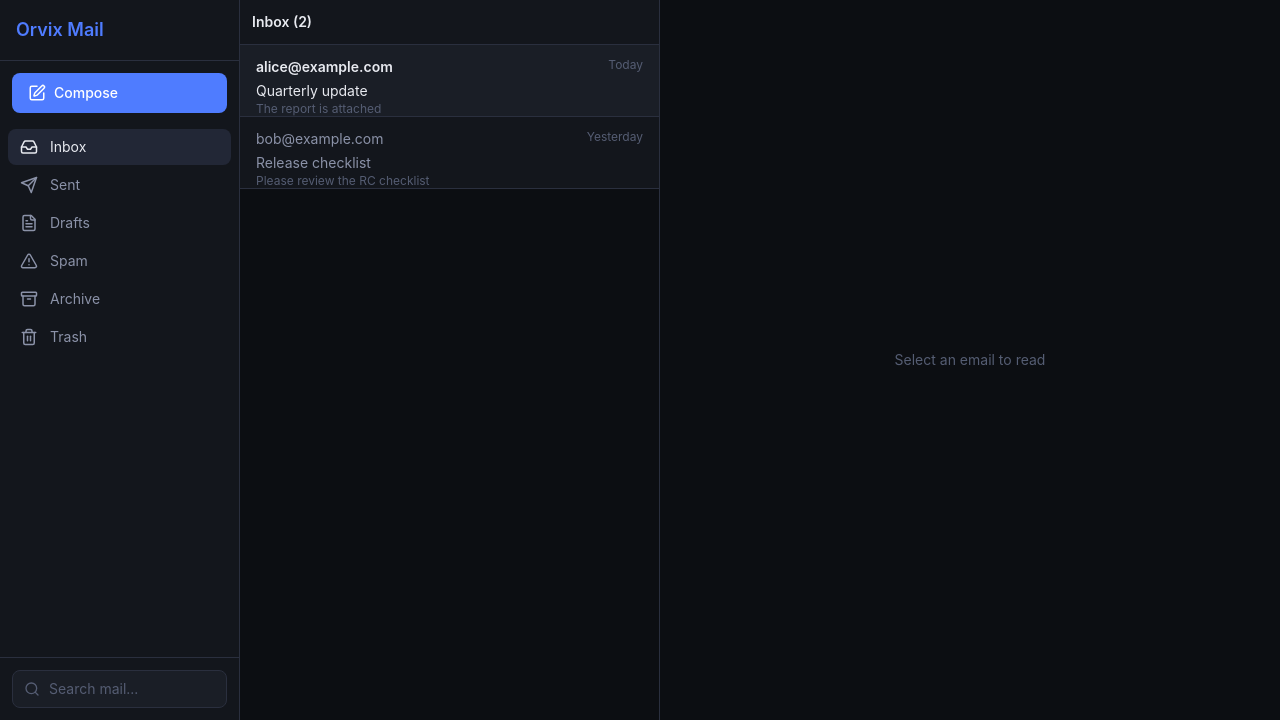
Webmail certification › loads a message into the reading pane
The width and height of the screenshot is (1280, 720).
Click the text "Quarterly update": (312,90) [256,82,368,99]
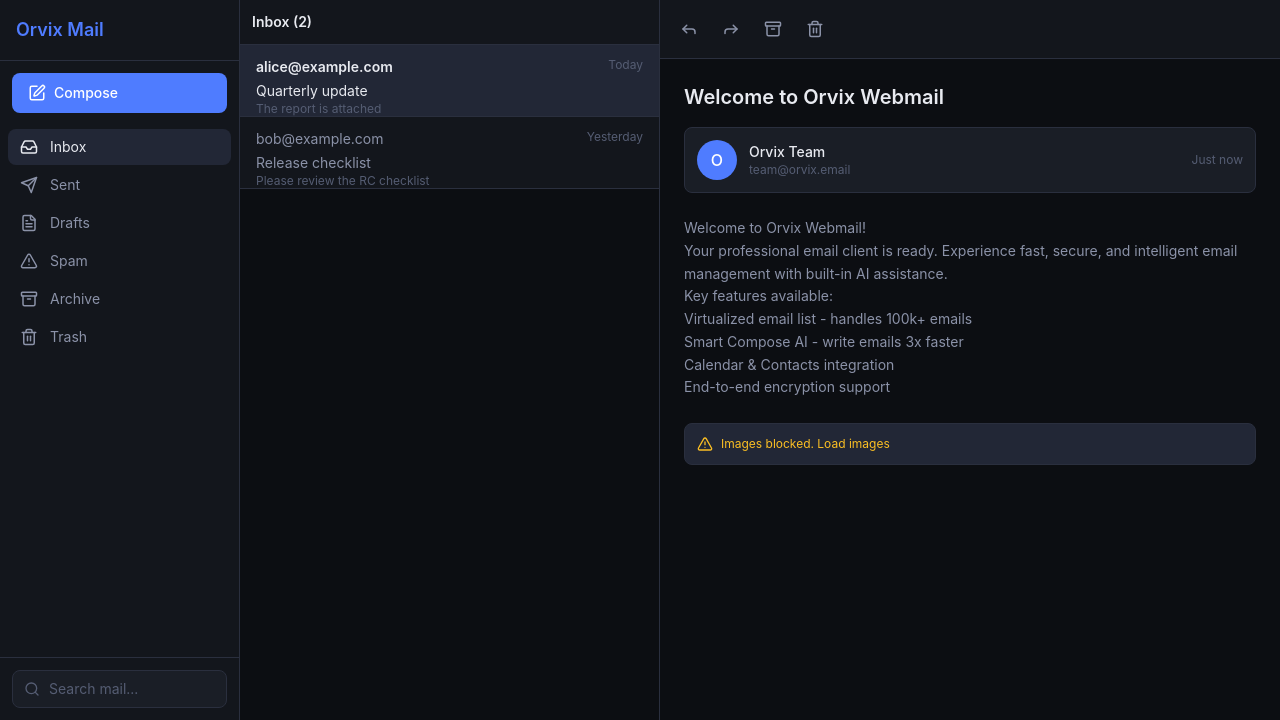
Expected: the heading "Welcome to Orvix Webmail" is shown, [684,85,944,109]
Expected: the text "team@orvix.email" is shown, [749,162,850,178]
